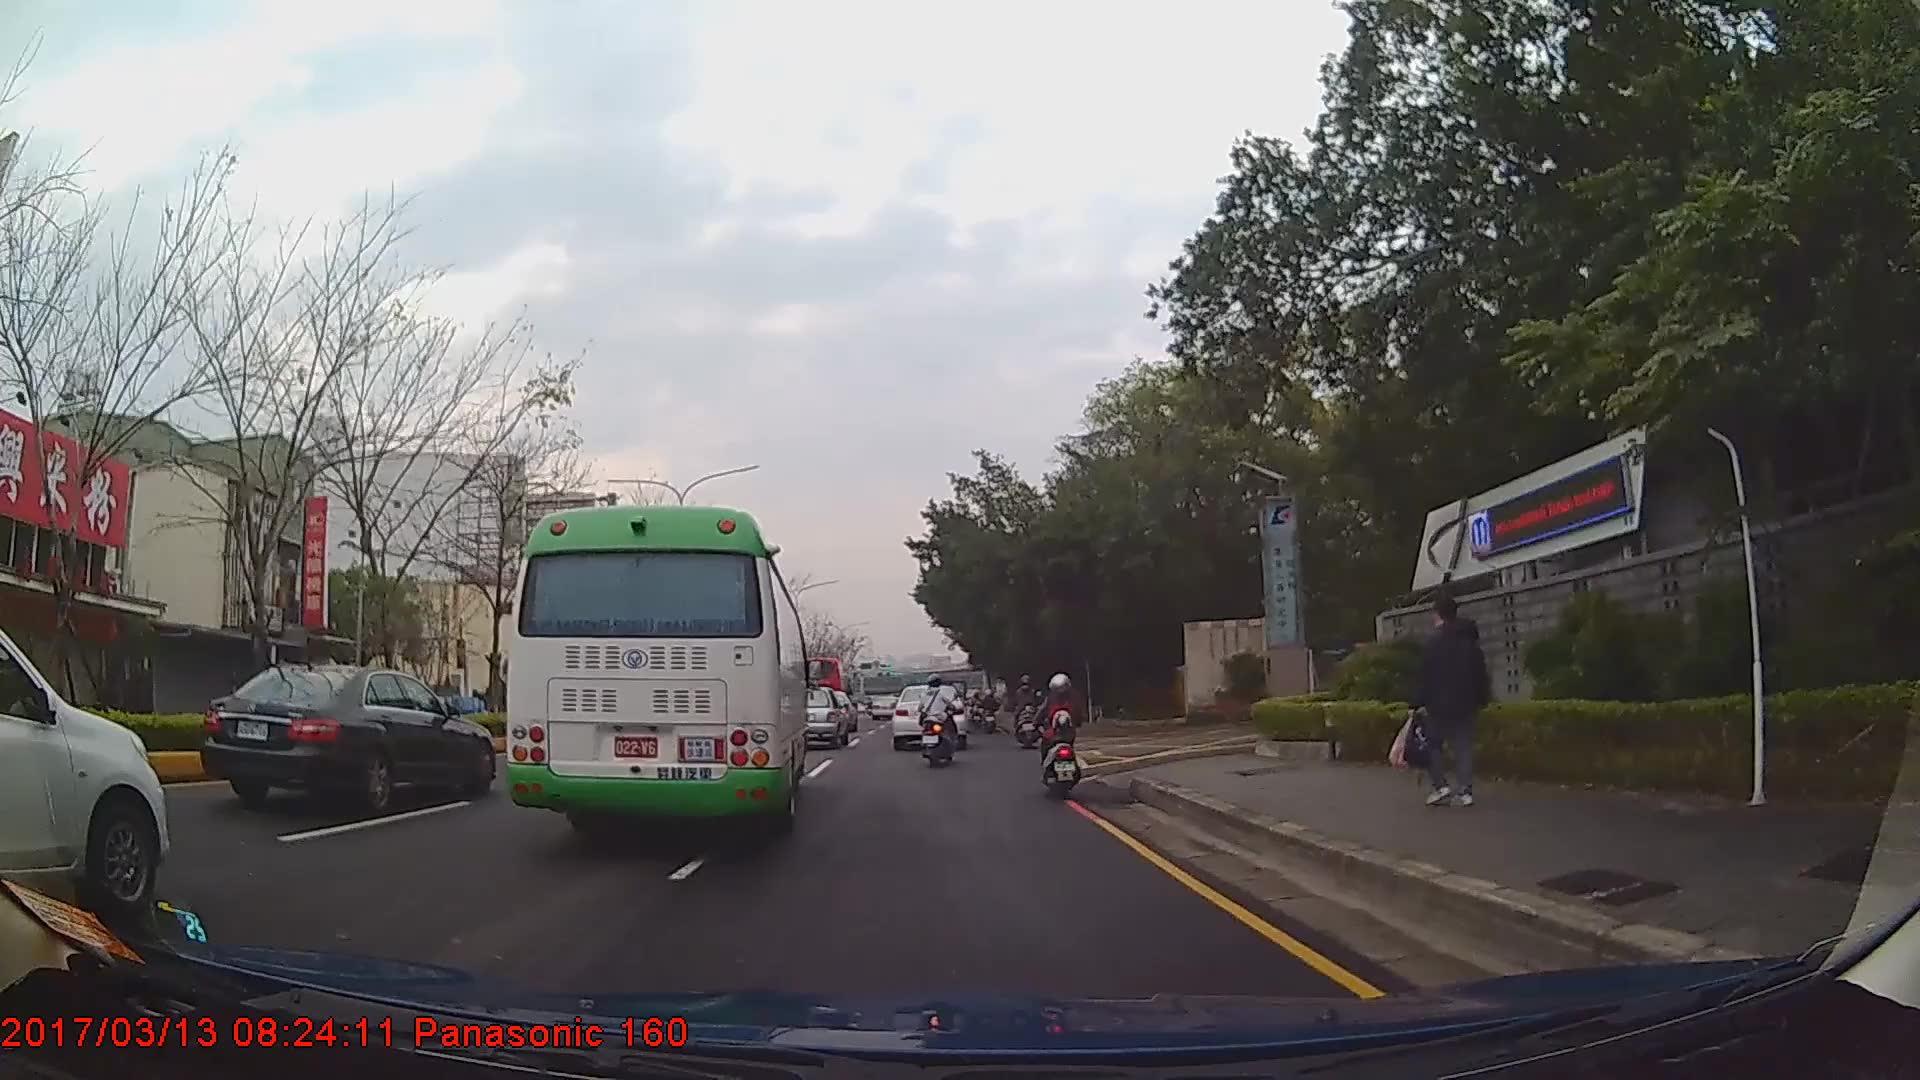pedestrian: (1390, 602, 1486, 809)
rider: (1037, 672, 1079, 797), (920, 676, 961, 765), (1009, 675, 1043, 751), (979, 691, 999, 725)
vehicle: (507, 505, 807, 845), (0, 623, 169, 913), (198, 663, 497, 815), (893, 682, 966, 751)
